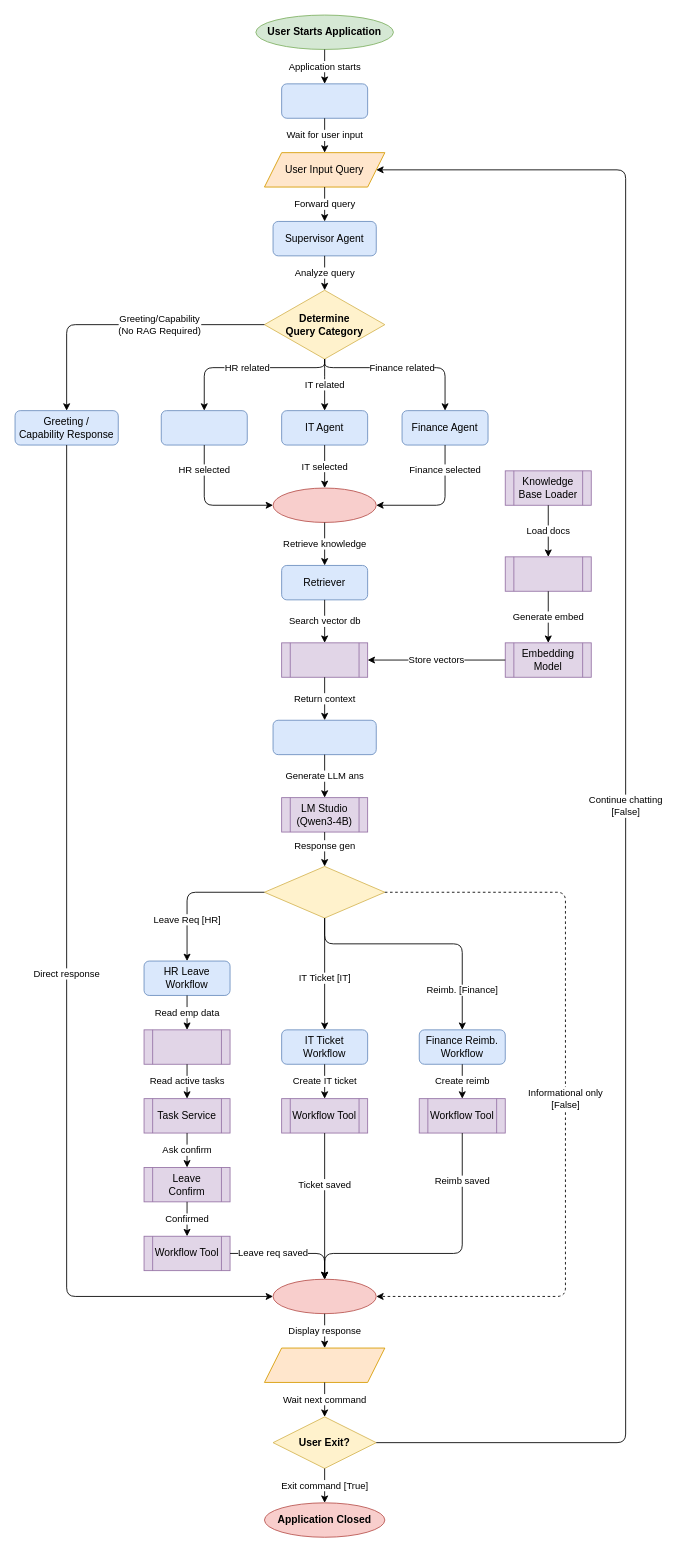
Some shapes in this 678 by 1552 pixel diagram are drawn without their labels. The shapes that lost their labels are listed below. From the top down, each one's box as (x1, y1, x2, y2) in pixels, then its label:
(281, 83, 368, 118): Terminal Chat UI (app/main.py)
(160, 410, 247, 445): HR Agent
(272, 487, 376, 522): Selected Agent
(504, 556, 591, 591): Text Splitter
(281, 642, 368, 677): Chroma Vector Store
(272, 719, 376, 755): Generate Response
(264, 866, 385, 918): Workflow Required?
(143, 1029, 230, 1064): Employee Svc
(272, 1278, 376, 1314): Final Response
(264, 1347, 385, 1382): Assistant Output
